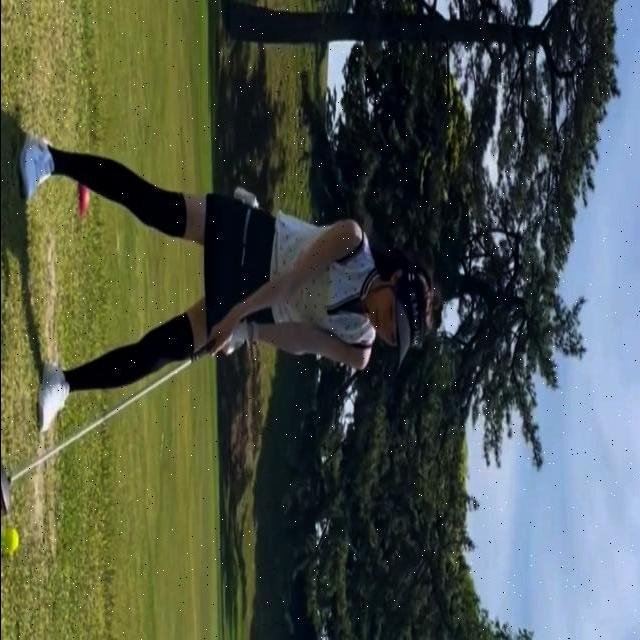golf ball: (7, 530, 17, 552)
golf club-handle: (3, 341, 215, 514)
golf club-head: (2, 474, 9, 512)
